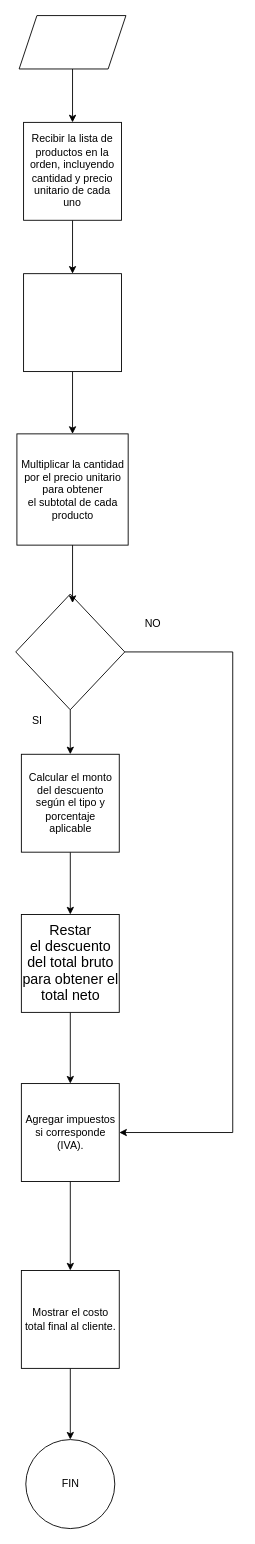
Some shapes in this 255 by 1544 pixel diagram are drawn without their labels. Here are the shapes that lost their labels. From the top down, the box of each, then its label:
(18, 15, 126, 69): Inicio
(23, 273, 121, 372): Recorrer cada producto en la lista
(15, 593, 125, 710): Verificar si aplica algún descuento
